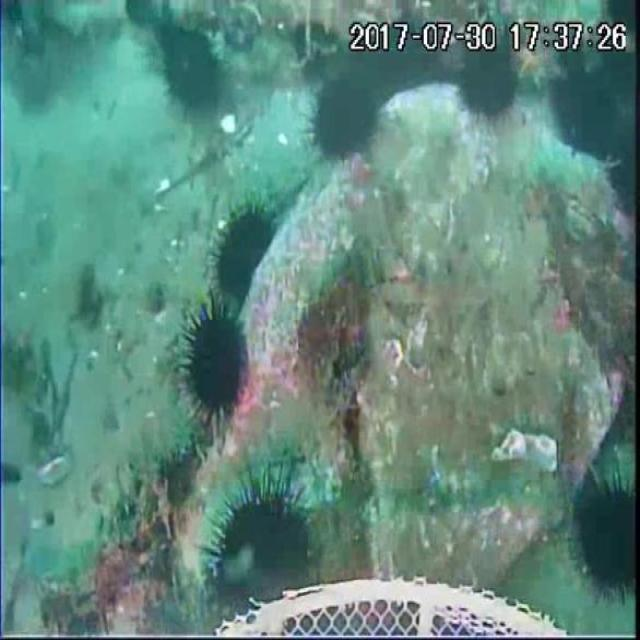echinus: (208, 486, 314, 598), (568, 472, 640, 607), (181, 300, 246, 421), (552, 68, 631, 167), (213, 204, 274, 301), (162, 27, 227, 116), (312, 73, 377, 160), (361, 28, 440, 99), (454, 43, 522, 121), (605, 1, 640, 38)
